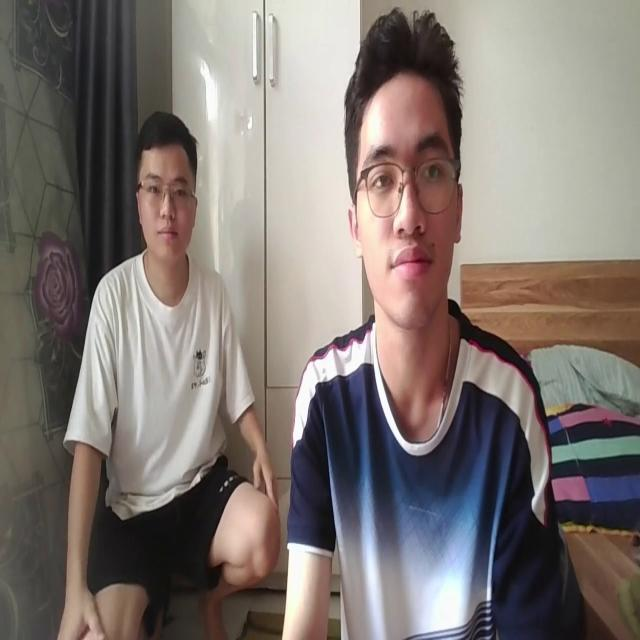extra_person: (57, 104, 300, 616)
student: (286, 10, 574, 640)
